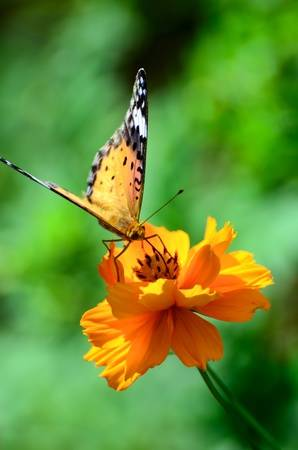Argyreus hyperbius: (2, 67, 190, 283)
butterfly: (1, 65, 188, 281)
